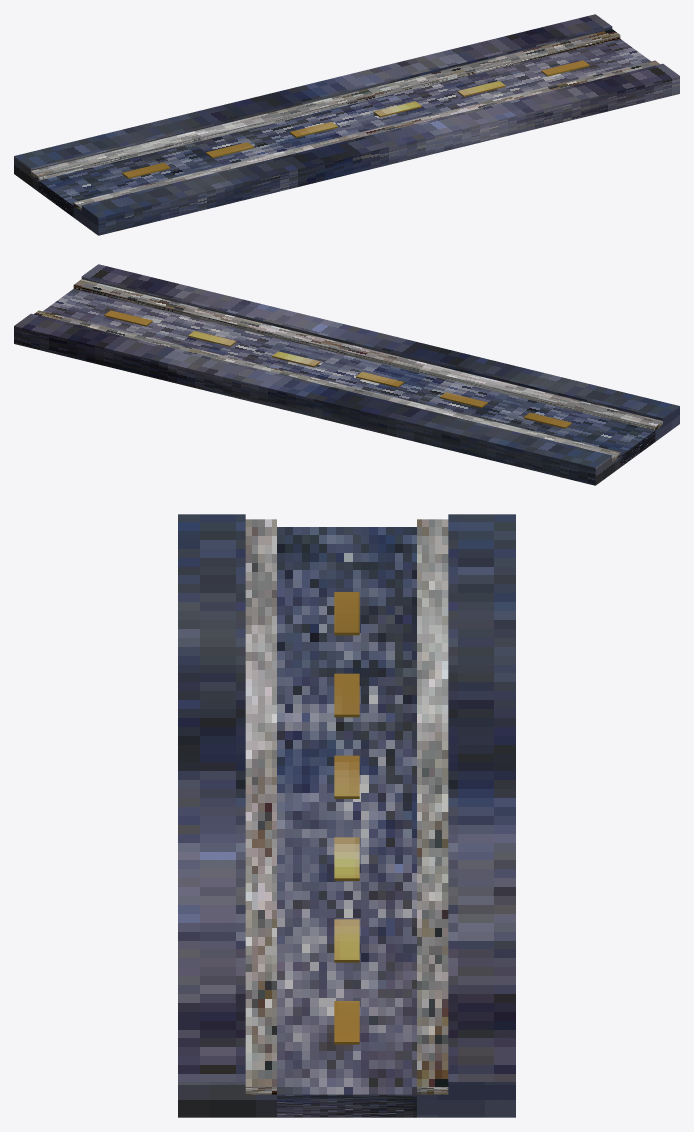
File: road2.fbx
The picture shows the model from 3 angles, top to bottom: view 1: azimuth 30°, elevation 25°; view 2: azimuth 150°, elevation 25°; view 3: azimuth 270°, elevation 25°; orthographic projection. The views are drawn at different scales.
Visible parts, largest first — view 1: eeeoad, yello; view 2: eeeoad, yello; view 3: eeeoad, yello.
Part boxes in pixels (bbox=[...]): eeeoad: bbox=[14, 14, 679, 235]; yello: bbox=[122, 60, 589, 178]; eeeoad: bbox=[14, 264, 679, 485]; yello: bbox=[104, 310, 571, 428]; eeeoad: bbox=[178, 514, 515, 1117]; yello: bbox=[334, 592, 359, 1044].
Bounding box in the file's own units: 384 × 11.31 × 96.59.
